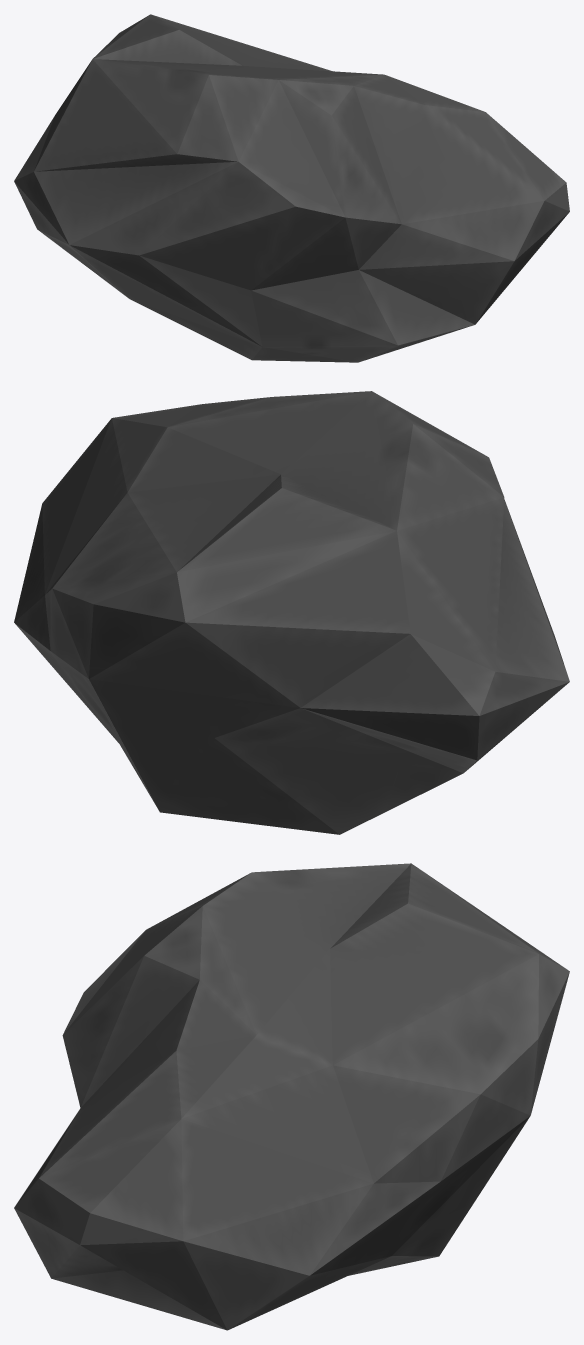
Rendered from rock_11.obj.
3 renders of one model, top to bottom at view 1: azimuth 30°, elevation 25°; view 2: azimuth 150°, elevation 25°; view 3: azimuth 270°, elevation 25°, orthographic. The views are drawn at different scales.
Parts seen in each view (by area): view 1: Asteroids_Mesh.011; view 2: Asteroids_Mesh.011; view 3: Asteroids_Mesh.011.
Boxes of the visible parts, x1,y1,x2,y2 form: Asteroids_Mesh.011: [14, 14, 569, 362]; Asteroids_Mesh.011: [14, 391, 569, 834]; Asteroids_Mesh.011: [14, 863, 569, 1330].
Bounding box in the file's own units: 1.34 × 0.9049 × 1.22.
